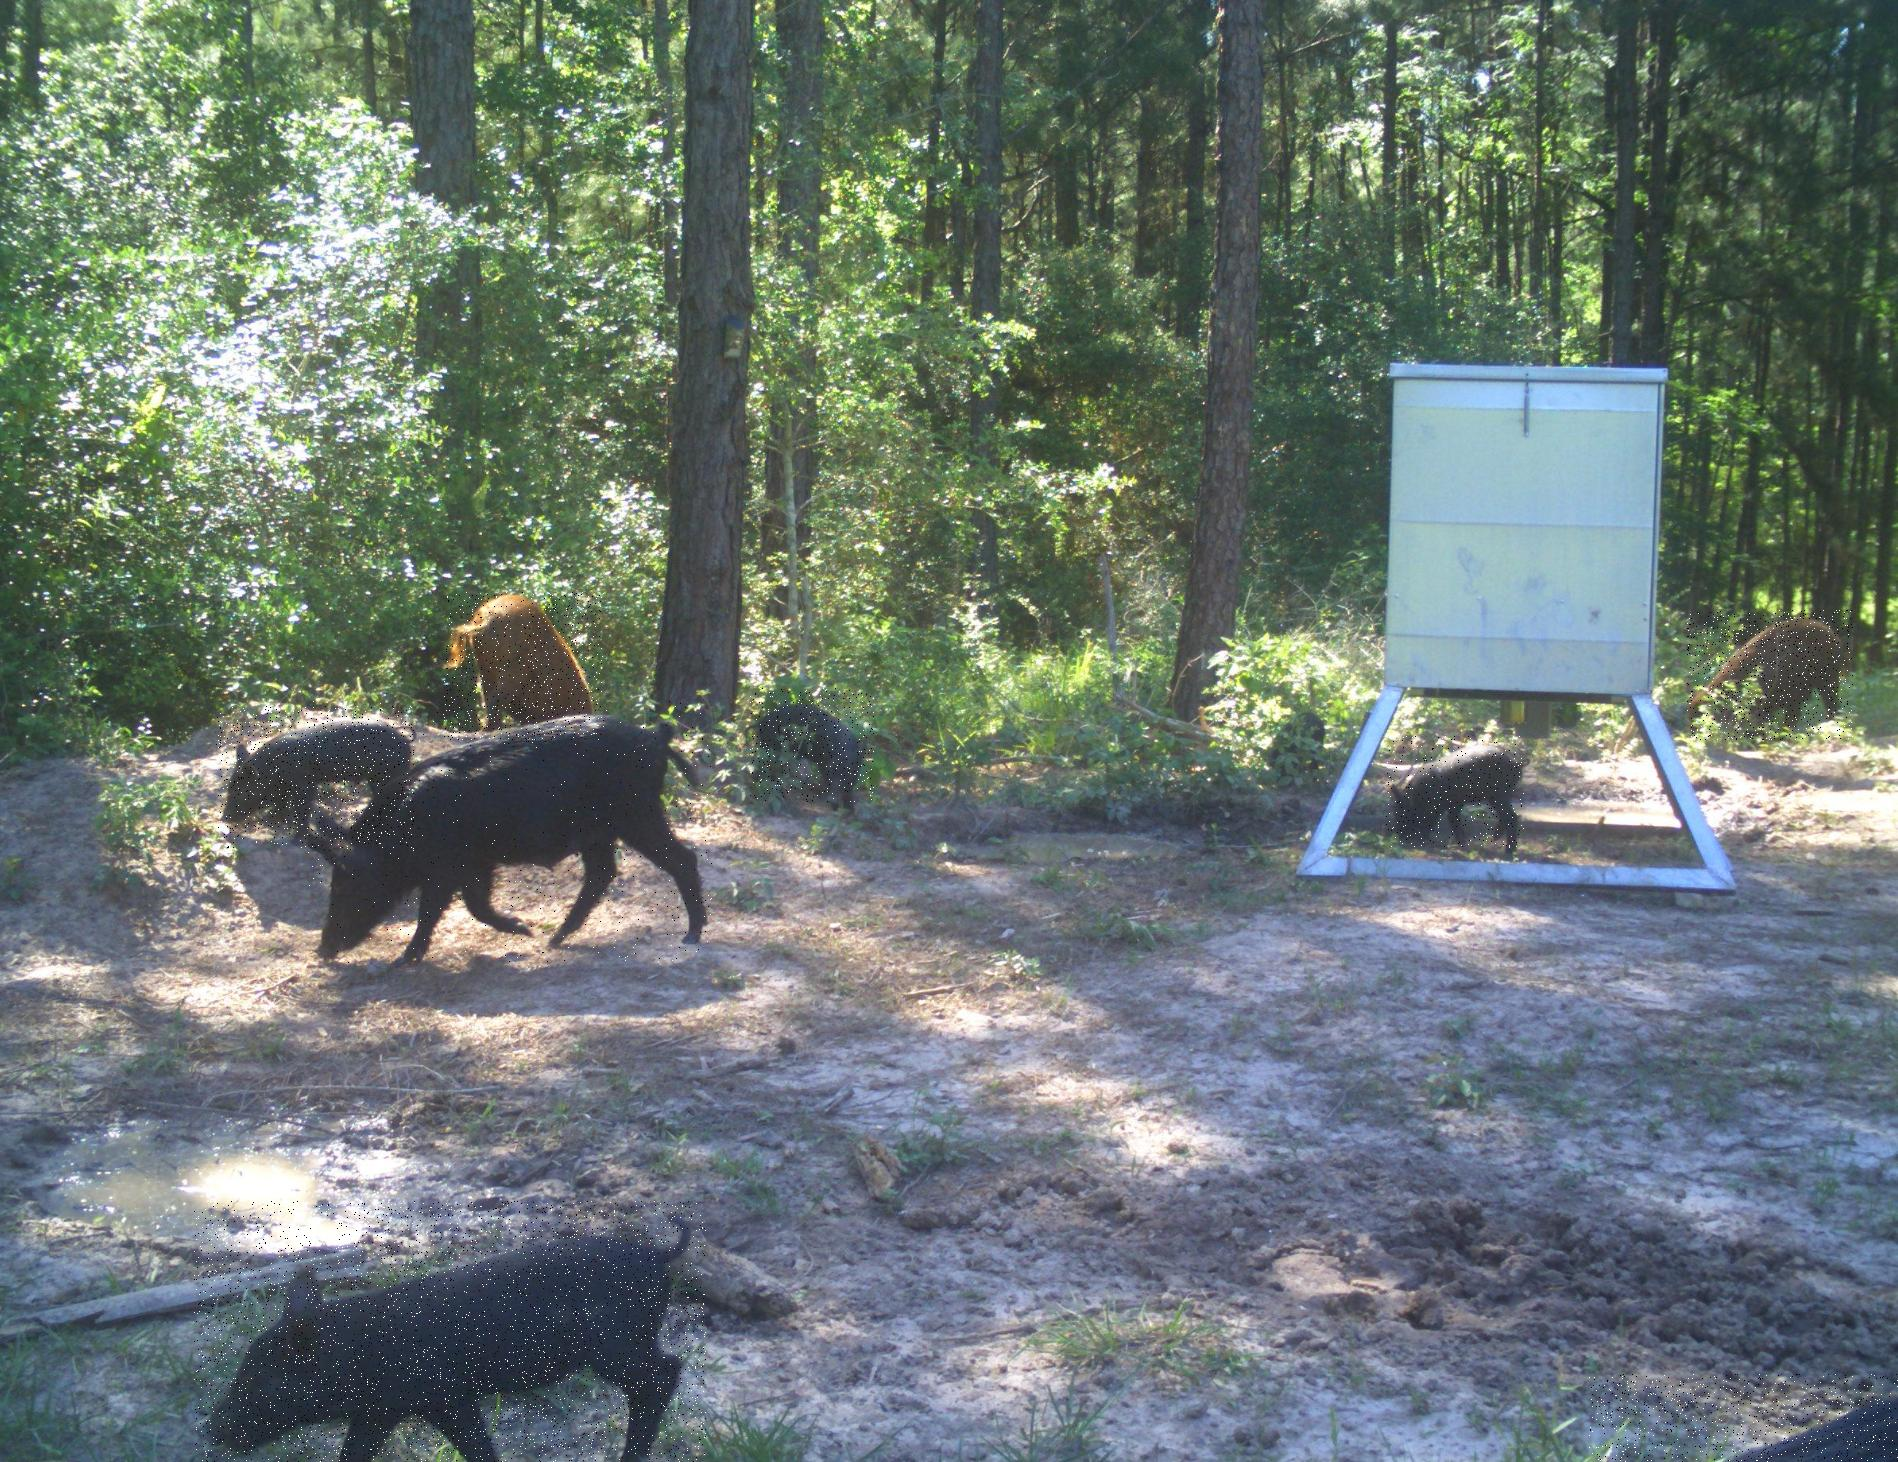Hog: (193, 1201, 706, 1462), (307, 700, 713, 963), (217, 706, 415, 848), (1589, 1374, 1898, 1462), (444, 593, 603, 740), (1688, 610, 1853, 740), (1387, 736, 1523, 848), (749, 688, 874, 802)
